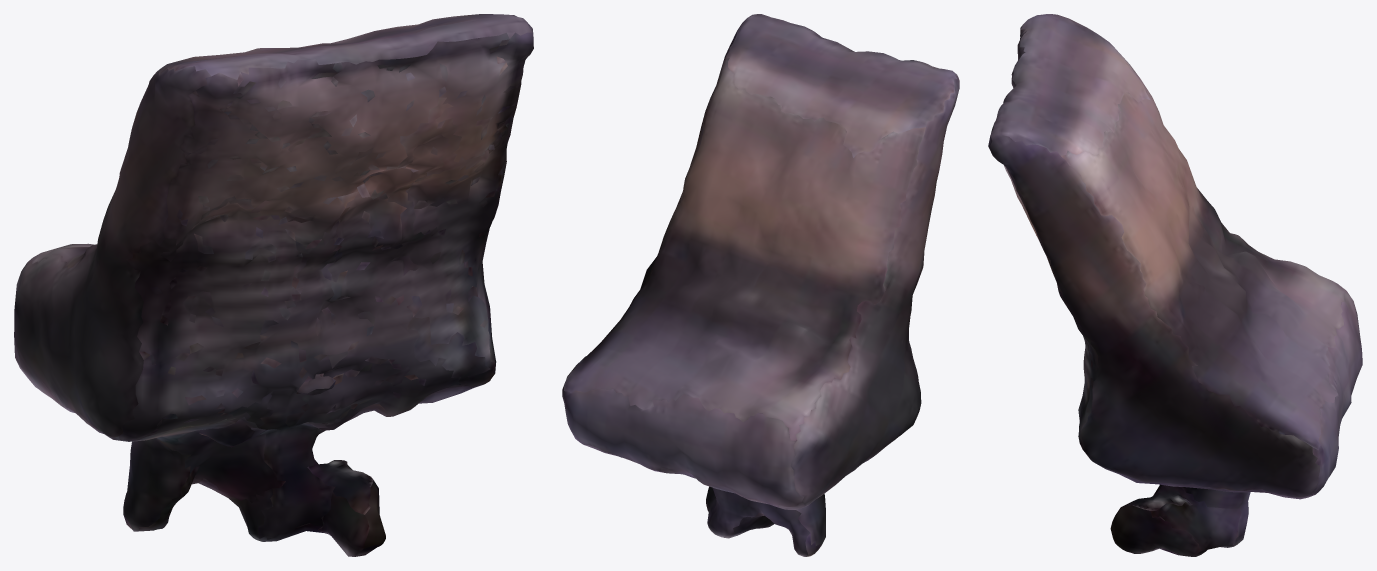
The model's file is 6_chair.glb.
The picture shows the model from 3 angles, left to right: view 1: azimuth 30°, elevation 25°; view 2: azimuth 150°, elevation 25°; view 3: azimuth 270°, elevation 25°; orthographic projection. The views are drawn at different scales.
Parts seen in each view (by area): view 1: 6_chair; view 2: 6_chair; view 3: 6_chair.
Boxes of the visible parts, <box> form: 6_chair: <box>14,14,533,556</box>; 6_chair: <box>562,14,959,556</box>; 6_chair: <box>988,14,1362,556</box>.
Size of the model in its own units: 0.5727 by 0.829 by 0.6139.
1 material, 1 textured.
